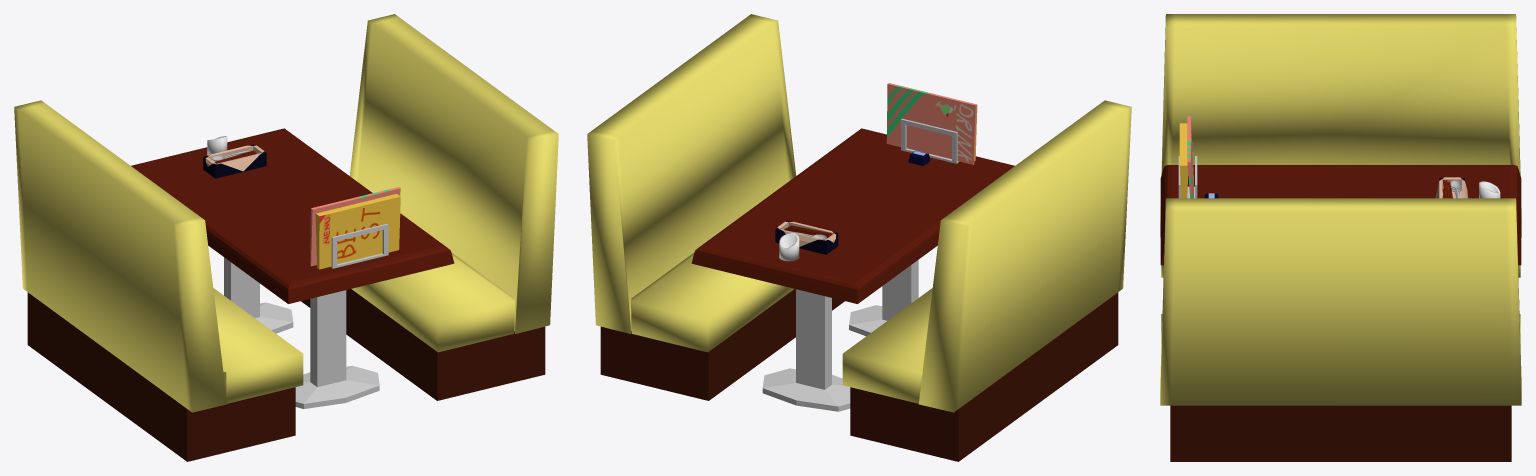
File: TableSet_4P_0915.fbx
3 renders of one model, left to right at view 1: azimuth 30°, elevation 25°; view 2: azimuth 150°, elevation 25°; view 3: azimuth 270°, elevation 25°, orthographic. The views are drawn at different scales.
Visible parts, largest first — view 1: Sofa1, Sofa2, Table, Sofa_Leg2, Sofa_Leg1, Table_Leg, Menu, MenuStand, Cube.001, Cube; view 2: Sofa1, Sofa2, Table, Sofa_Leg2, Sofa_Leg1, Table_Leg, Menu, MenuStand; view 3: Sofa1, Sofa2, Sofa_Leg1, Table, Menu.
Boxes of the visible parts, <box> form: Sofa1: <box>349,14,558,352</box>; Sofa2: <box>14,100,303,412</box>; Table: <box>131,128,454,303</box>; Sofa_Leg2: <box>27,292,295,461</box>; Sofa_Leg1: <box>301,289,545,400</box>; Table_Leg: <box>224,257,379,408</box>; Menu: <box>310,187,400,269</box>; MenuStand: <box>330,223,388,268</box>; Cube.001: <box>205,145,264,171</box>; Cube: <box>203,144,266,178</box>; Sofa1: <box>587,14,796,352</box>; Sofa2: <box>842,100,1131,412</box>; Table: <box>691,128,1014,303</box>; Sofa_Leg2: <box>850,292,1118,461</box>; Sofa_Leg1: <box>600,289,844,400</box>; Table_Leg: <box>762,260,918,411</box>; Menu: <box>886,83,977,164</box>; MenuStand: <box>901,118,959,163</box>; Sofa1: <box>1160,198,1521,405</box>; Sofa2: <box>1160,14,1521,277</box>; Sofa_Leg1: <box>1170,405,1511,461</box>; Table: <box>1160,165,1521,265</box>; Menu: <box>1179,116,1193,198</box>.
Size of the model in its own units: 205 by 123 by 158.
